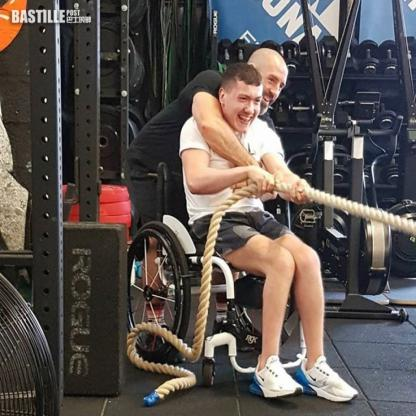wheelchair: (119, 65, 357, 409)
